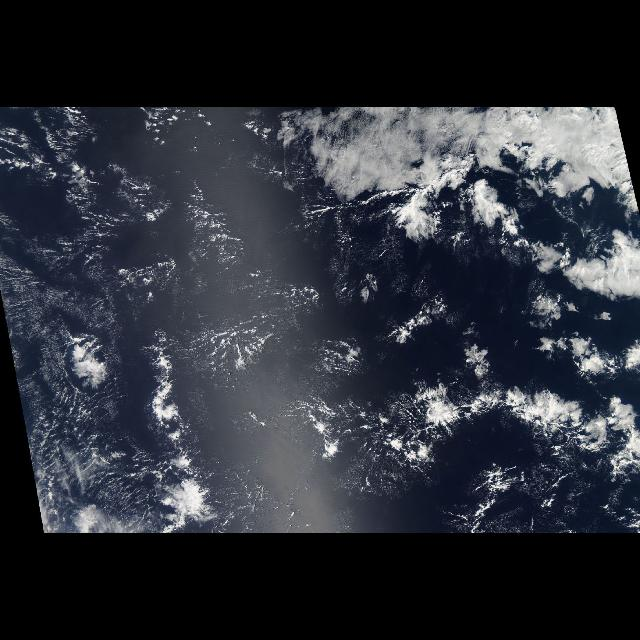Fish: (290, 348, 640, 502)
Sugar: (1, 178, 240, 458)
